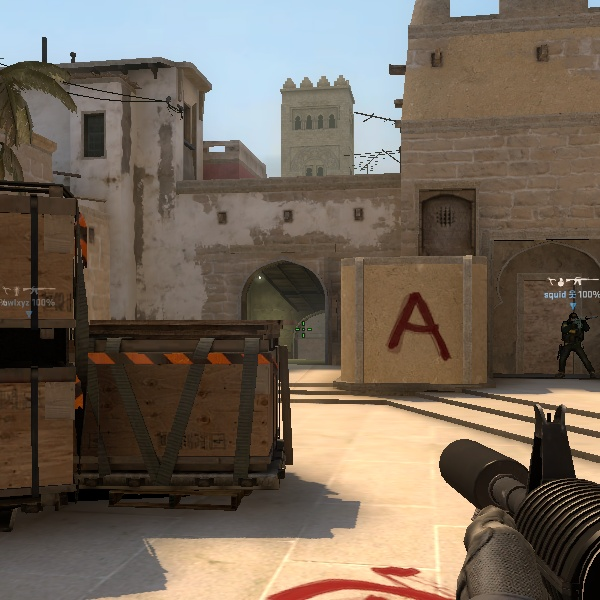ct_body: (549, 303, 594, 382)
ct_head: (566, 309, 581, 326)
